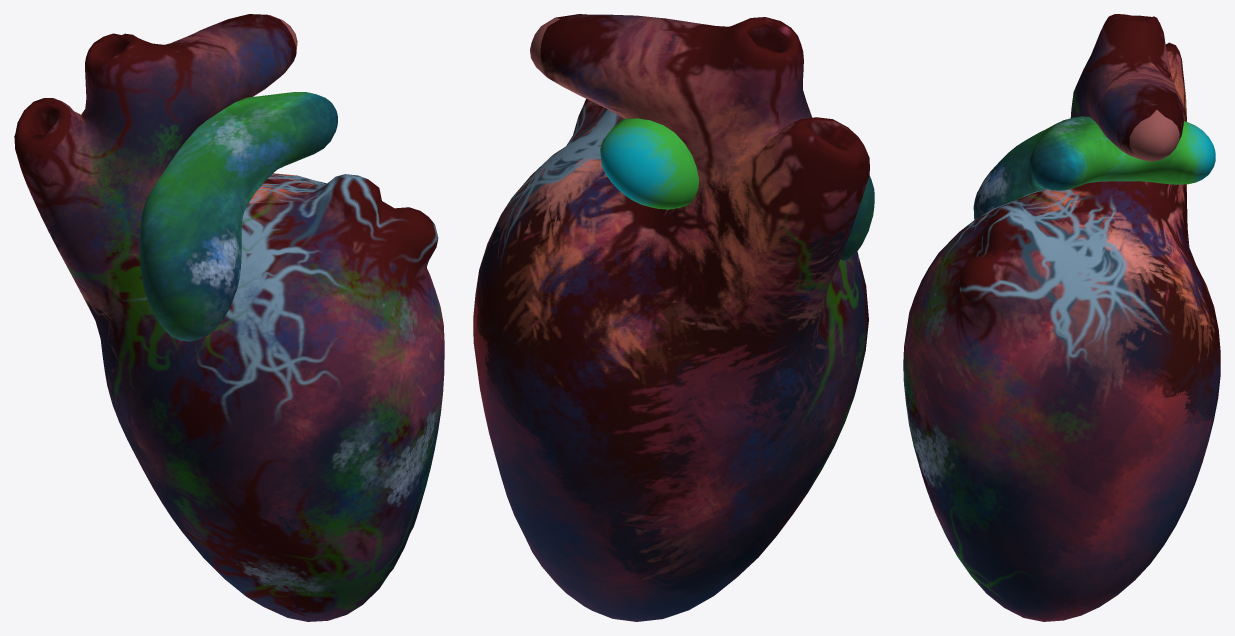
The model's file is coeur_malade (1).fbx.
The picture shows the model from 3 angles, left to right: view 1: azimuth 30°, elevation 25°; view 2: azimuth 150°, elevation 25°; view 3: azimuth 270°, elevation 25°; orthographic projection. The views are drawn at different scales.
Visible parts, largest first — view 1: coeur_malade; view 2: coeur_malade; view 3: coeur_malade.
Part boxes in pixels (bbox=[...]): coeur_malade: bbox=[14, 14, 444, 621]; coeur_malade: bbox=[473, 14, 874, 621]; coeur_malade: bbox=[903, 14, 1220, 621].
Bounding box in the file's own units: 2.11 × 3.24 × 1.74.
